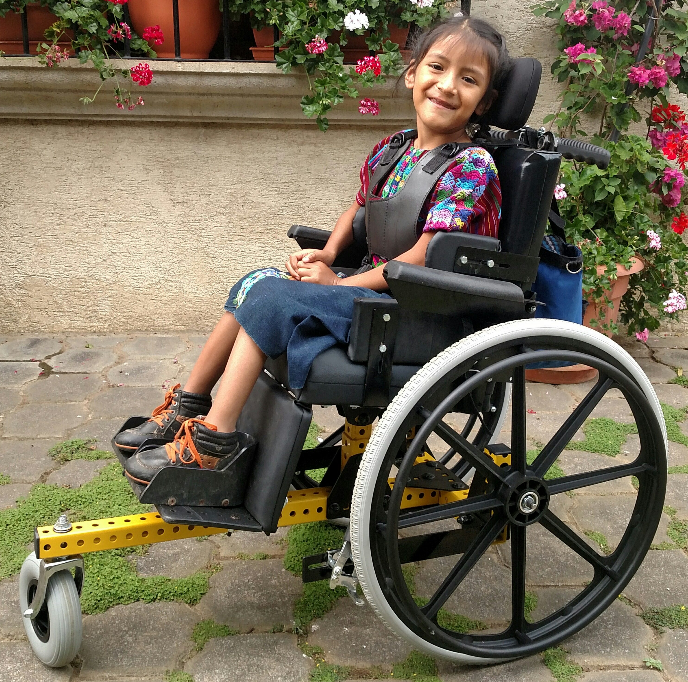person: (296, 20, 548, 303)
wheelchair: (30, 275, 636, 652)
